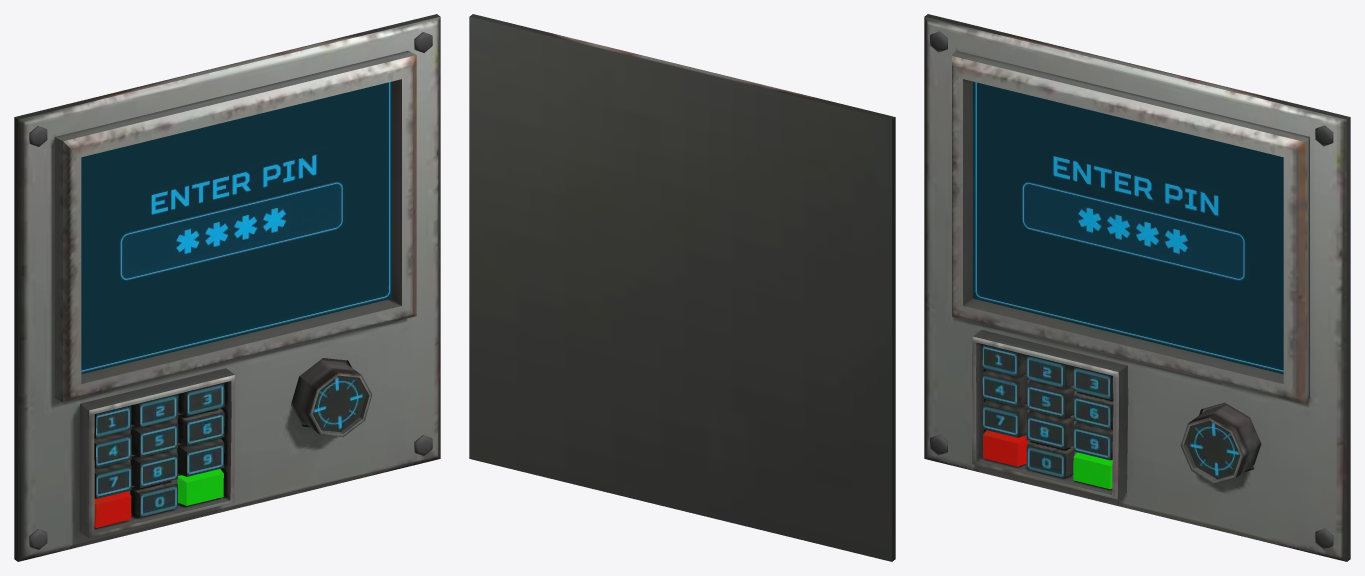
File: keypad-panel.glb
3 views of the same model, side by side, from view 1: azimuth 30°, elevation 25°; view 2: azimuth 150°, elevation 25°; view 3: azimuth 330°, elevation 25° (orthographic).
Parts seen in each view (by area): view 1: Cube_EveeMaterial_0, Cylinder_Bolts_0; view 2: Cube_EveeMaterial_0; view 3: Cube_EveeMaterial_0, Cylinder_Bolts_0.
Boxes of the visible parts, box(x1,y1,x2,y2) form: Cube_EveeMaterial_0: box(14, 14, 440, 561); Cylinder_Bolts_0: box(29, 32, 432, 549); Cube_EveeMaterial_0: box(469, 14, 895, 561); Cube_EveeMaterial_0: box(924, 14, 1350, 561); Cylinder_Bolts_0: box(930, 31, 1333, 549).
Size of the model in its own units: 2 by 2 by 0.1751.
2 materials, 1 textured.
